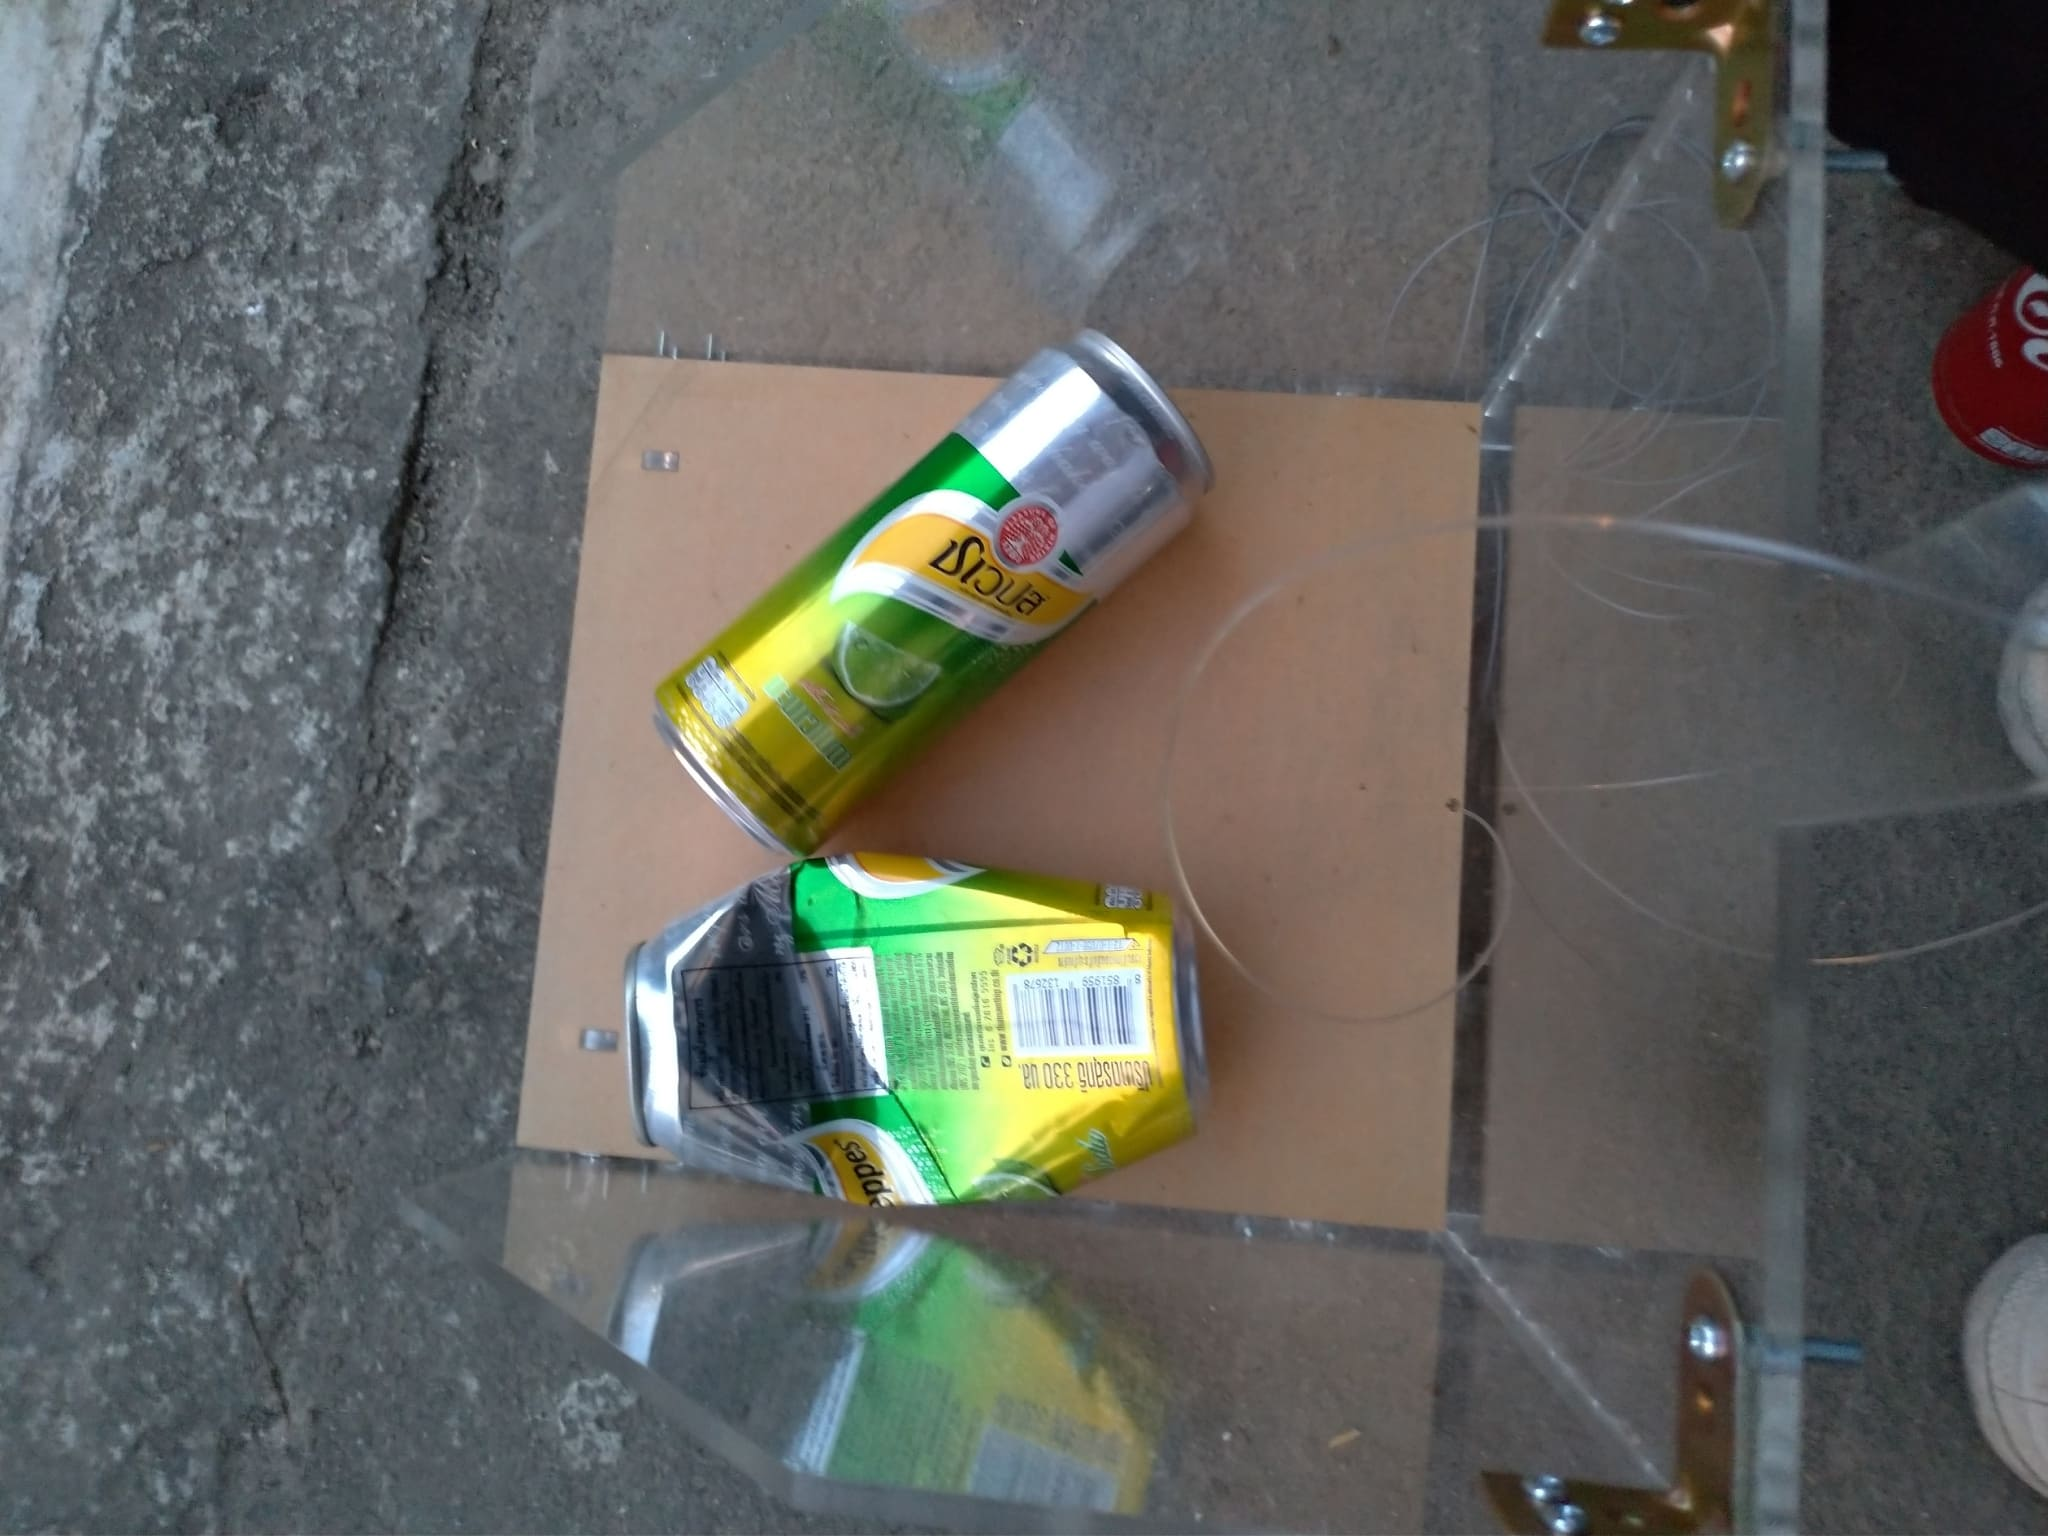AlCan: (648, 323, 1214, 860), (613, 854, 1218, 1210), (1925, 250, 2048, 466)
